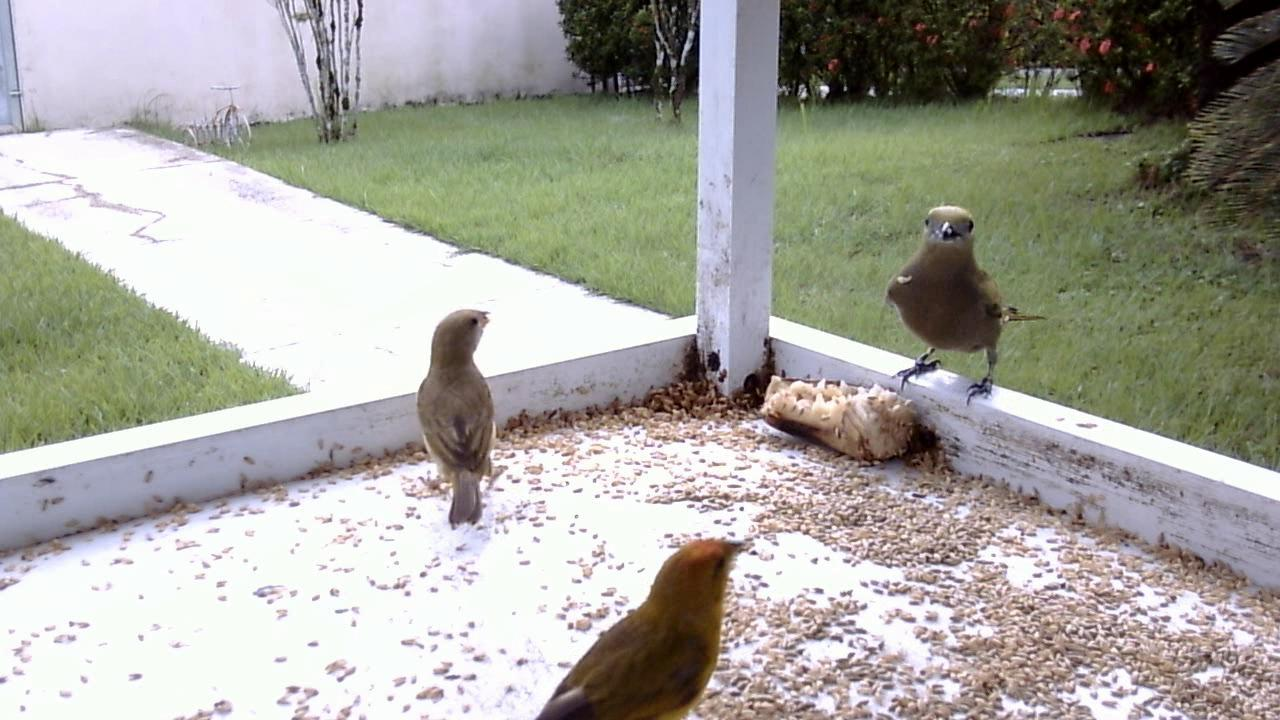canario_do_amazonas: (524, 540, 751, 715), (411, 307, 502, 534)
sanhaco_do_coqueiro: (878, 198, 1035, 414)
